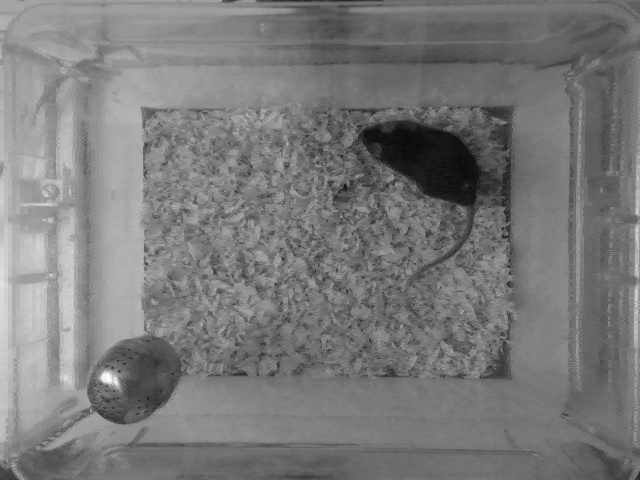mice: (357, 118, 480, 275)
